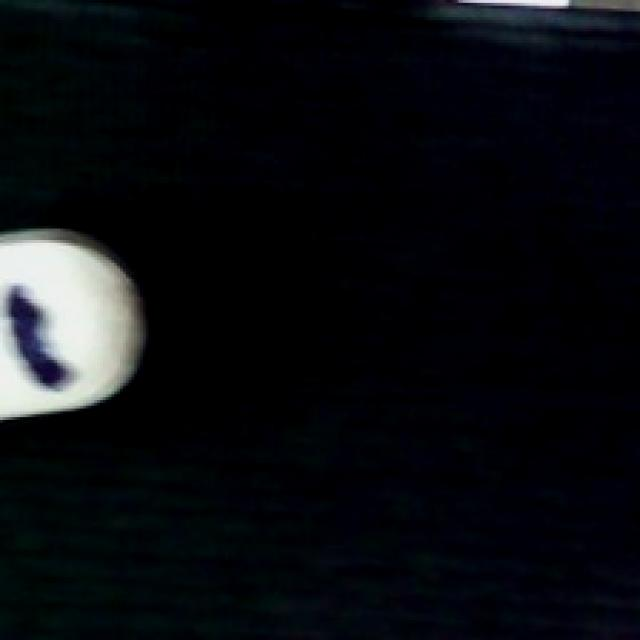defected: (3, 220, 160, 426)
